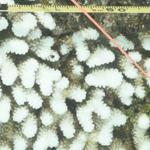dead: (1, 4, 147, 146)
